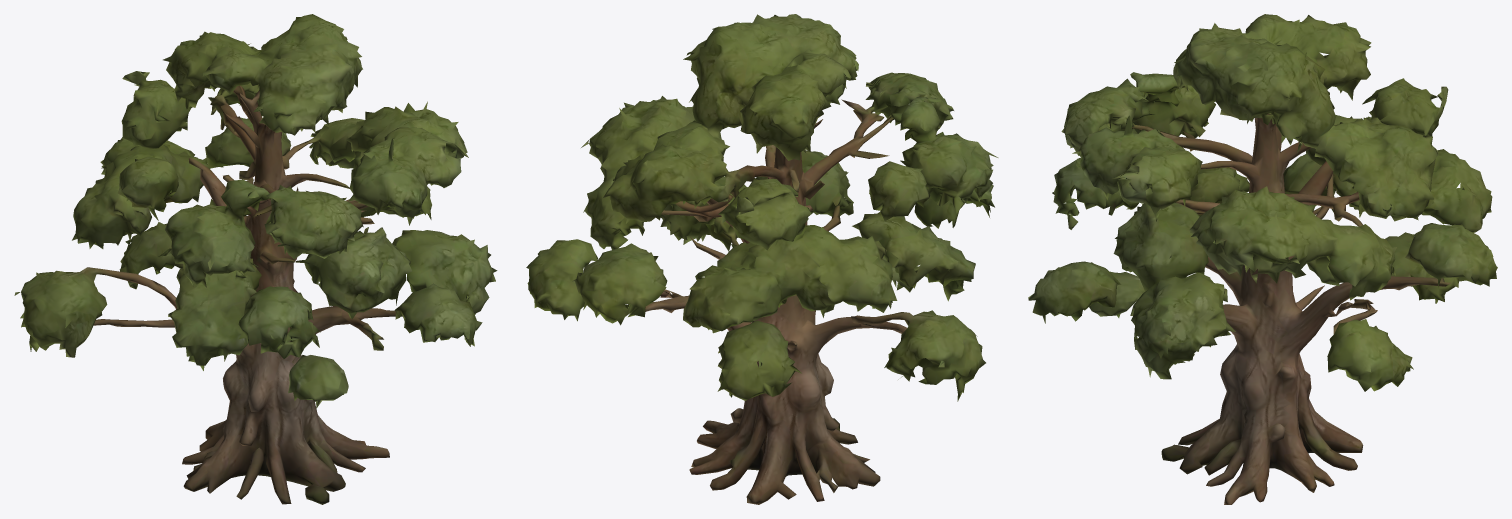
File: prop_tree.glb
3 renders of one model, left to right at view 1: azimuth 30°, elevation 25°; view 2: azimuth 150°, elevation 25°; view 3: azimuth 270°, elevation 25°, orthographic.
Visible parts, largest first — view 1: tripo_node_2bff06a8-298f-43a9-be01-2460d4515ef5; view 2: tripo_node_2bff06a8-298f-43a9-be01-2460d4515ef5; view 3: tripo_node_2bff06a8-298f-43a9-be01-2460d4515ef5.
Part boxes in pixels (x1,y1,x2,y2): tripo_node_2bff06a8-298f-43a9-be01-2460d4515ef5: (14, 14, 497, 504); tripo_node_2bff06a8-298f-43a9-be01-2460d4515ef5: (526, 14, 998, 504); tripo_node_2bff06a8-298f-43a9-be01-2460d4515ef5: (1028, 14, 1497, 504).
Bounding box in the file's own units: 0.999 × 0.9568 × 0.9396.
1 material, 1 textured.
